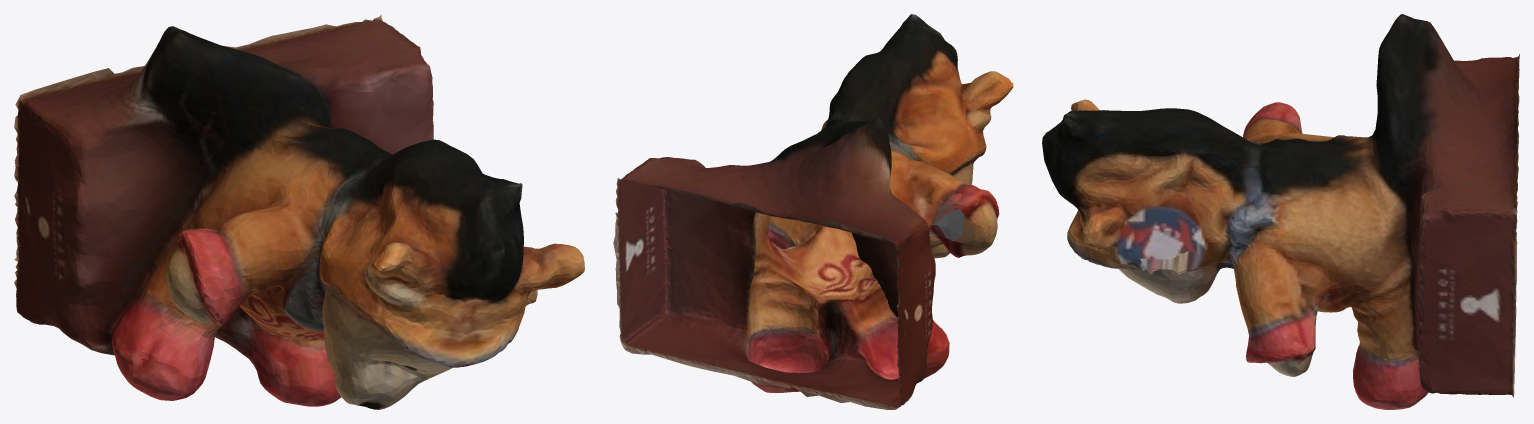
Rendered from bear001_long.obj.
3 renders of one model, left to right at view 1: azimuth 30°, elevation 25°; view 2: azimuth 150°, elevation 25°; view 3: azimuth 270°, elevation 25°, orthographic. The views are drawn at different scales.
Visible parts, largest first — view 1: group0; view 2: group0, group1; view 3: group0.
Part boxes in pixels (x1=…): group0: x1=14, y1=14, x2=584, y2=409; group0: x1=613, y1=14, x2=1013, y2=409; group1: x1=934, y1=208, x2=964, y2=235; group0: x1=1042, y1=14, x2=1519, y2=409.
Bounding box in the file's own units: 15.29 × 15.25 × 19.61.
2 materials, 1 textured.
